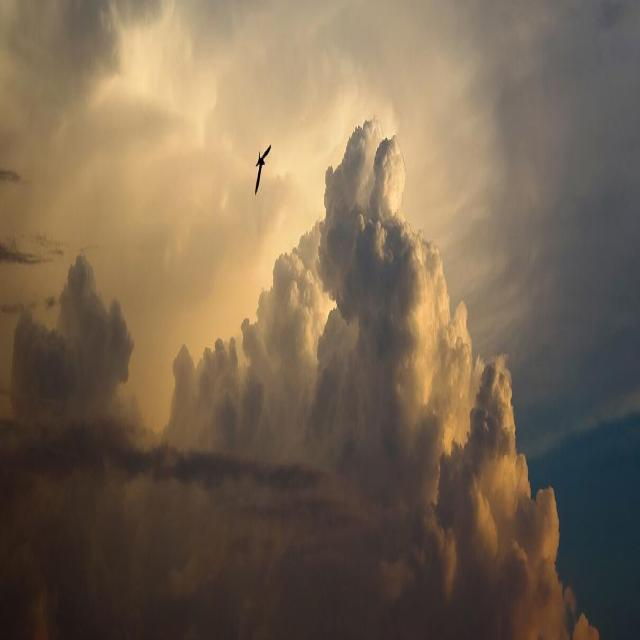bird: (254, 140, 272, 197)
